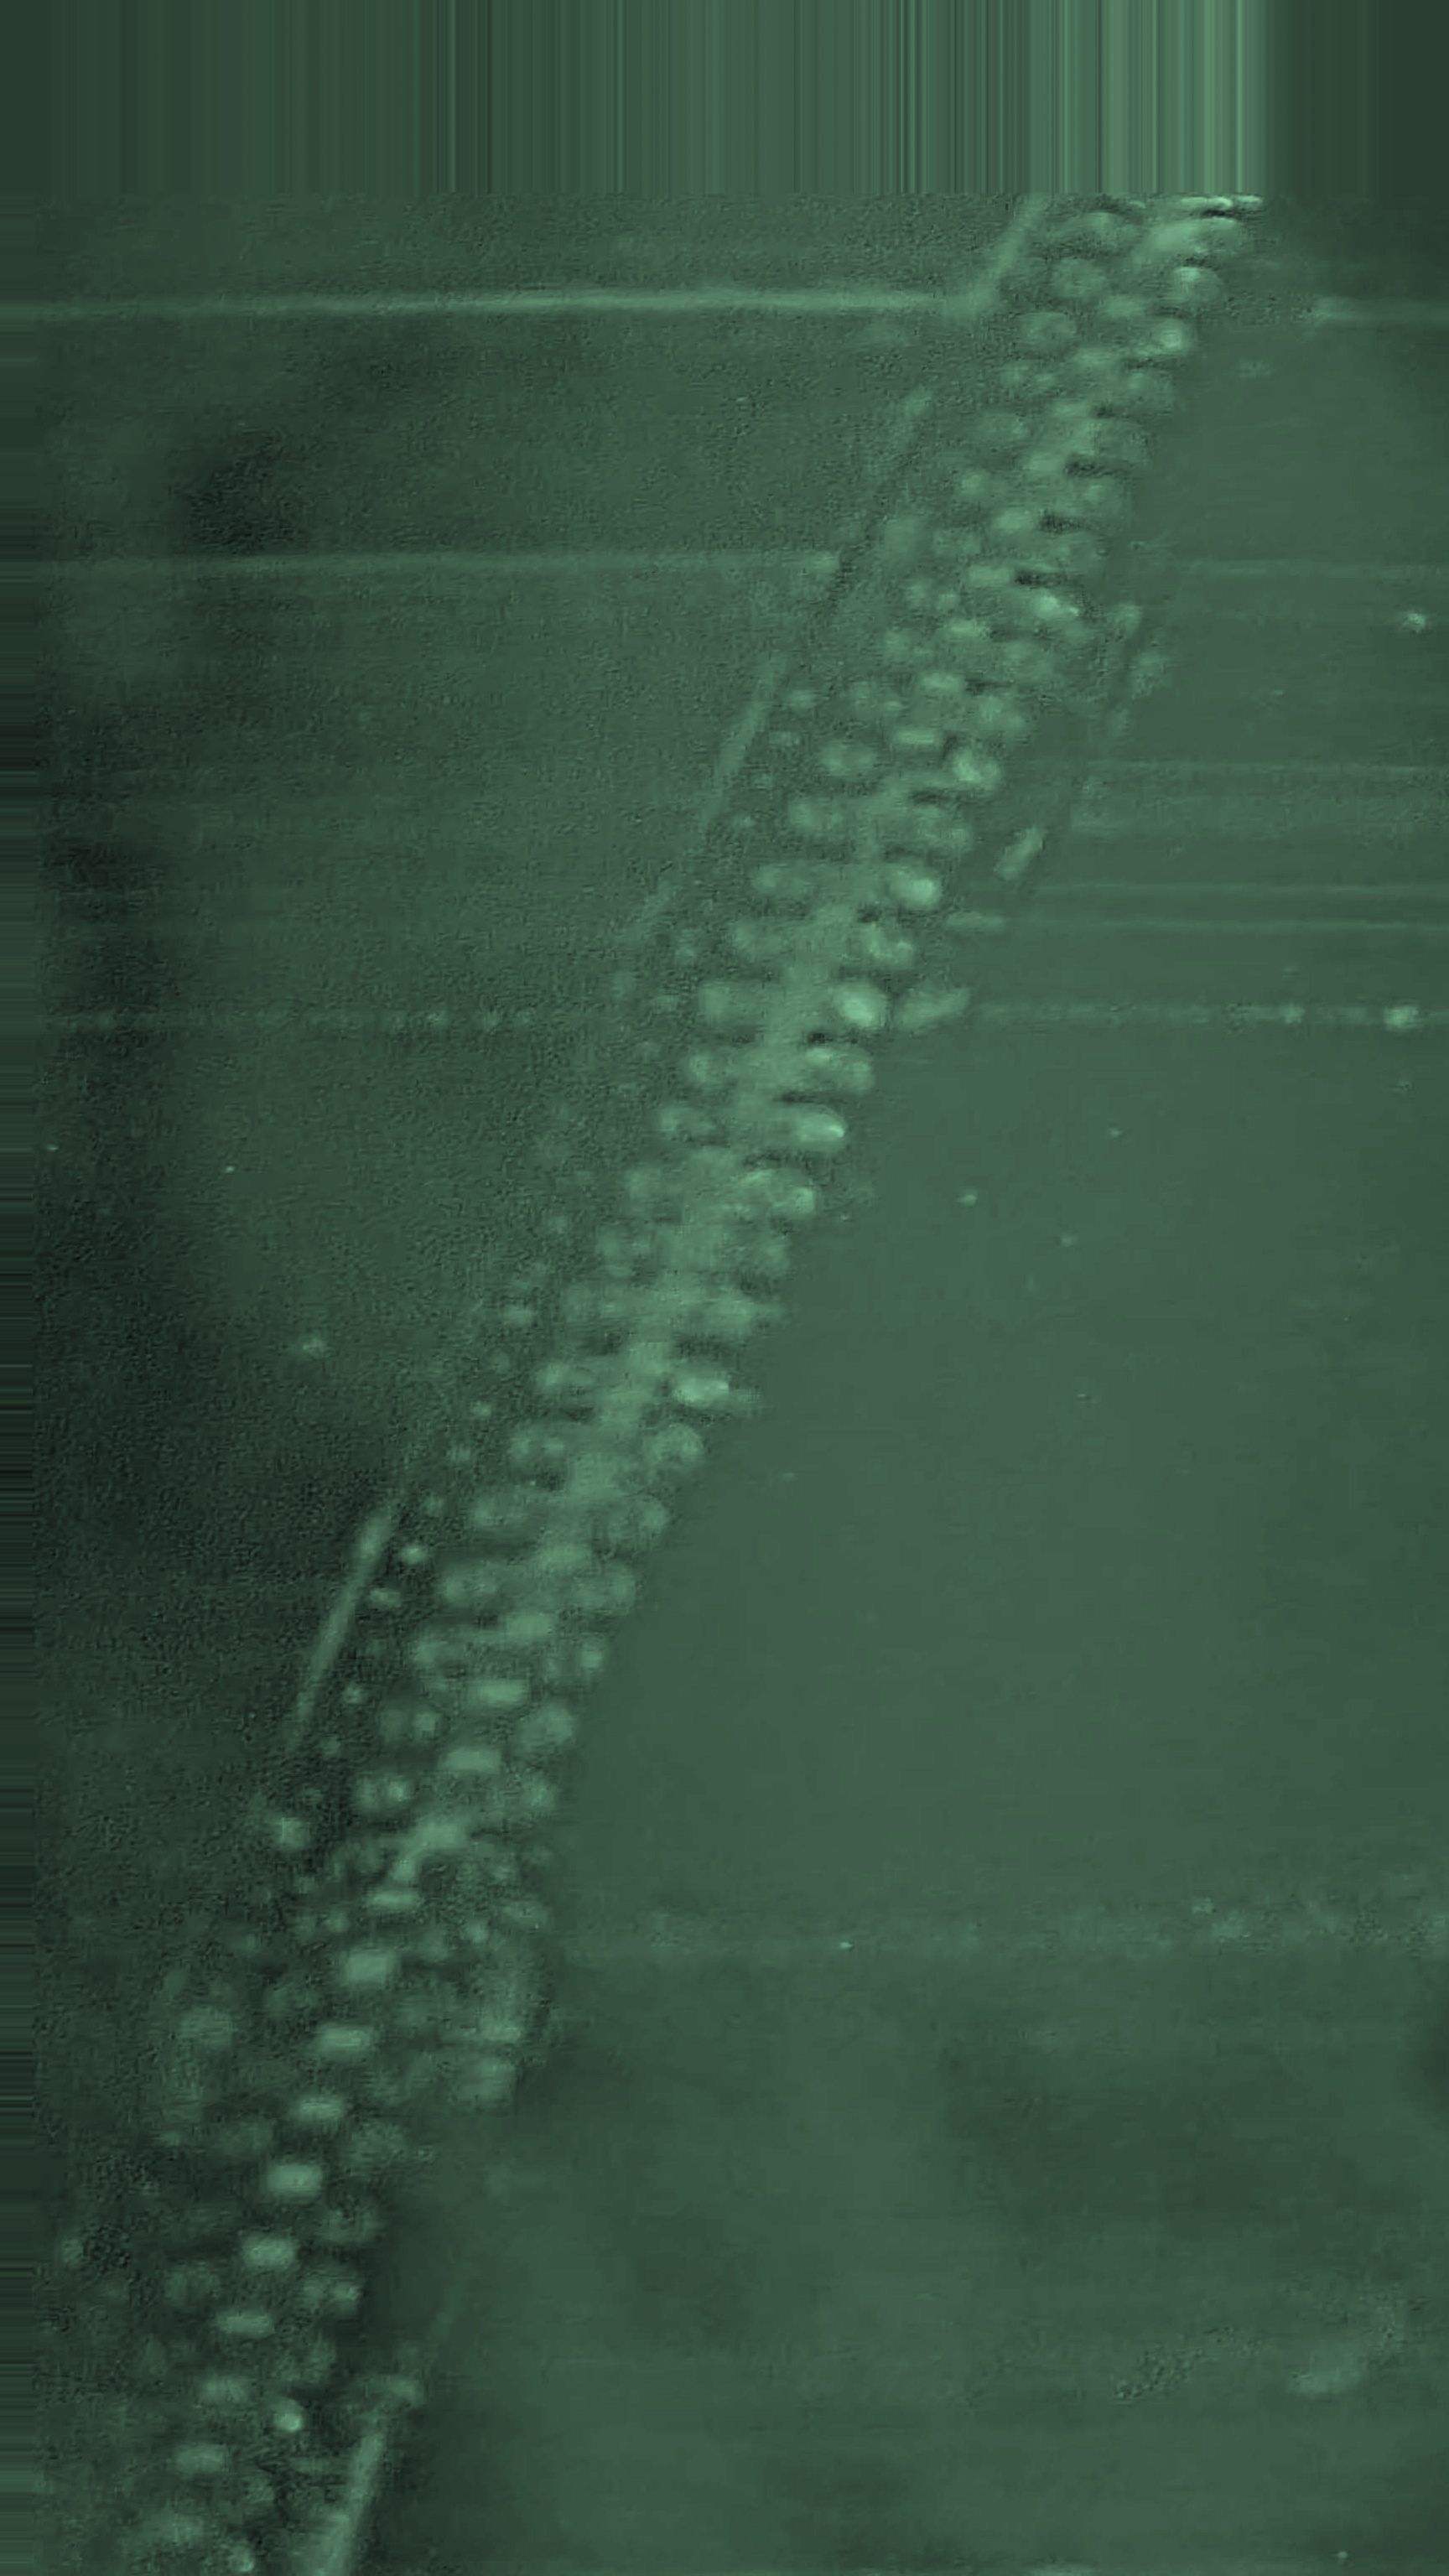splice_vulcanized: (30, 191, 1270, 2576)
